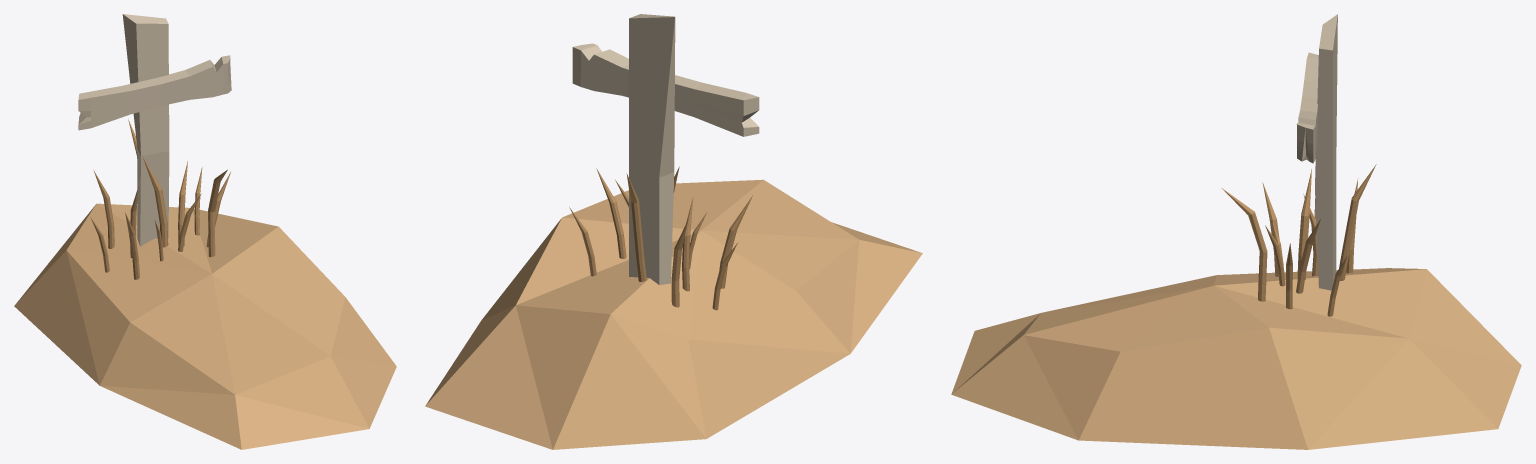
Rendered from Grave_1.fbx.
3 views of the same model, side by side, from view 1: azimuth 30°, elevation 25°; view 2: azimuth 150°, elevation 25°; view 3: azimuth 270°, elevation 25° (orthographic). The views are drawn at different scales.
Visible parts, largest first — view 1: Grave_1; view 2: Grave_1; view 3: Grave_1.
Part boxes in pixels (bbox=[...]): Grave_1: bbox=[14, 14, 396, 449]; Grave_1: bbox=[425, 14, 922, 449]; Grave_1: bbox=[951, 14, 1521, 449].
Size of the model in its own units: 246 by 420 by 277.
